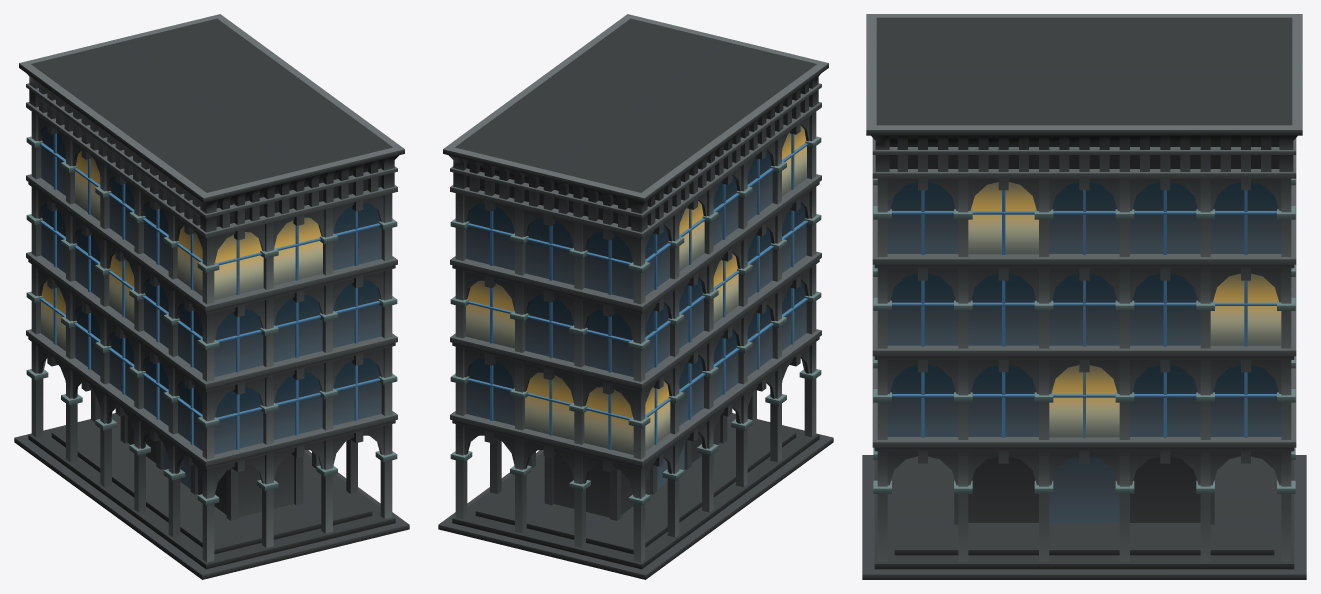
Rendered from Building_13A.fbx.
3 views of the same model, side by side, from view 1: azimuth 30°, elevation 25°; view 2: azimuth 150°, elevation 25°; view 3: azimuth 270°, elevation 25° (orthographic). The views are drawn at different scales.
Parts seen in each view (by area): view 1: Building_13A, Window_Lights_13A; view 2: Building_13A, Window_Lights_13A; view 3: Building_13A, Window_Lights_13A.
Part boxes in pixels (x1,y1,x2,y2): Building_13A: (14,14,409,579); Window_Lights_13A: (41,150,322,350); Building_13A: (438,14,833,579); Window_Lights_13A: (466,126,806,454); Building_13A: (862,14,1306,579); Window_Lights_13A: (968,182,1281,437).
Bounding box in the file's own units: 14 × 24.53 × 22.
